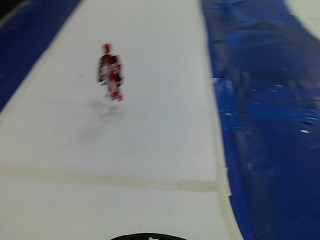pedestrian: (93, 41, 124, 99)
